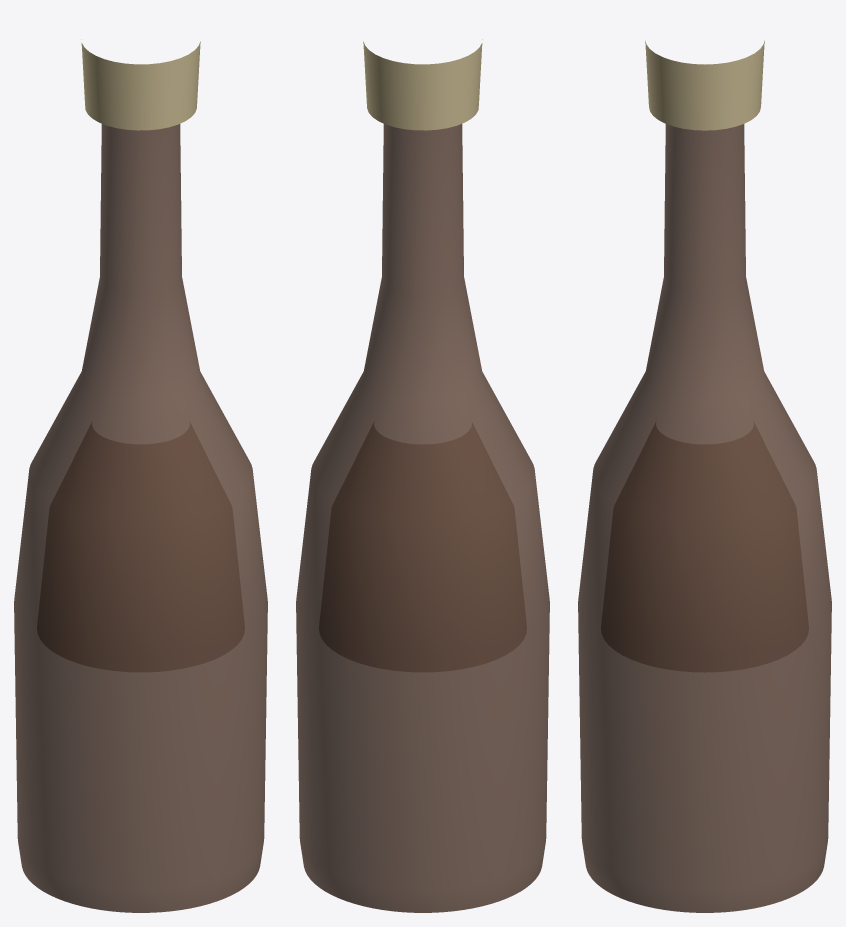
Rendered from opus-one-2019.glb.
3 views of the same model, side by side, from view 1: azimuth 30°, elevation 25°; view 2: azimuth 150°, elevation 25°; view 3: azimuth 270°, elevation 25° (orthographic).
Visible parts, largest first — view 1: body, cap; view 2: body, cap; view 3: body, cap.
Part boxes in pixels (x1,y1,x2,y2): body: (14, 124, 267, 912); cap: (81, 39, 200, 130); body: (296, 124, 549, 912); cap: (363, 39, 482, 130); body: (578, 124, 831, 912); cap: (645, 40, 764, 130).
Size of the model in its own units: 0.34 by 1.22 by 0.34.
